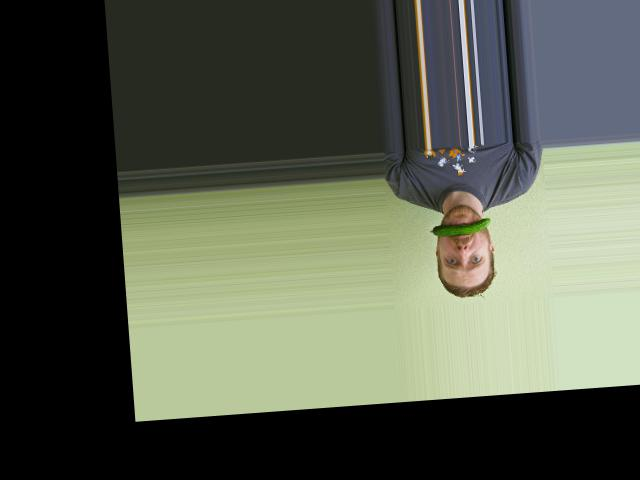cucumber: (429, 217, 492, 237)
